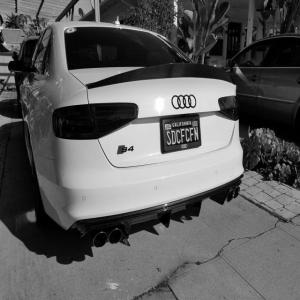Plate: (161, 115, 202, 153)
